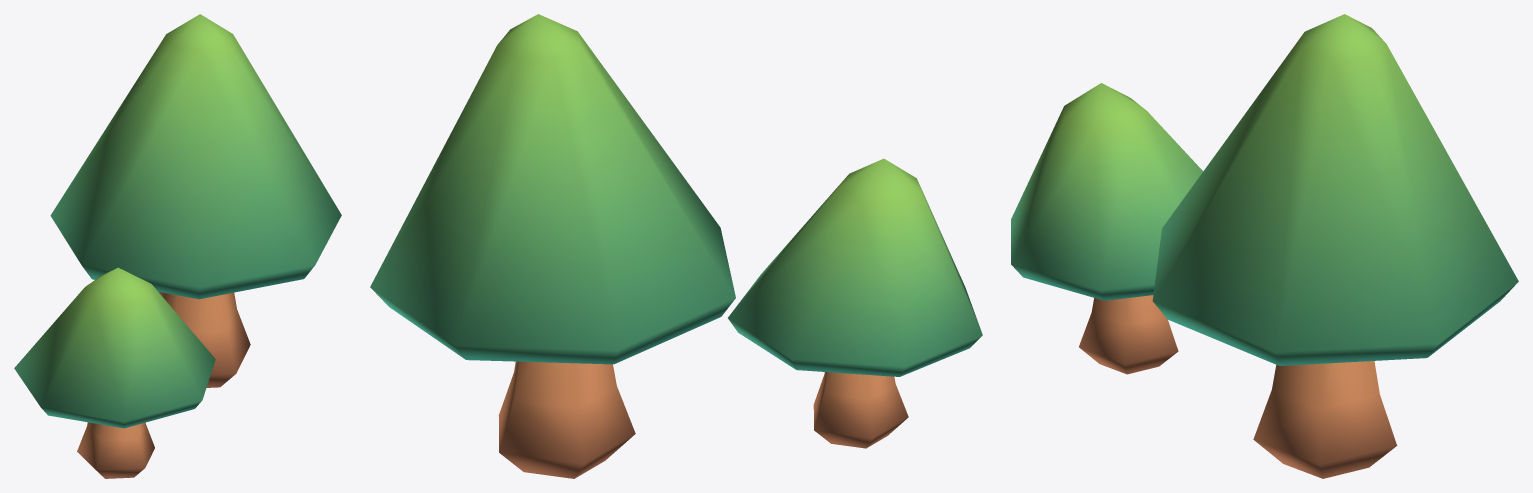
Rendered from mushroom_cone_2.obj.
The picture shows the model from 3 angles, left to right: view 1: azimuth 30°, elevation 25°; view 2: azimuth 150°, elevation 25°; view 3: azimuth 270°, elevation 25°; orthographic projection. The views are drawn at different scales.
Parts seen in each view (by area): view 1: mushroom_cone_2; view 2: mushroom_cone_2; view 3: mushroom_cone_2.
Part boxes in pixels (box(x1,y1,x2,y2)): mushroom_cone_2: box(14, 14, 341, 478); mushroom_cone_2: box(370, 14, 982, 478); mushroom_cone_2: box(1011, 14, 1518, 478).
Size of the model in its own units: 7.16 by 6.56 by 6.68.
